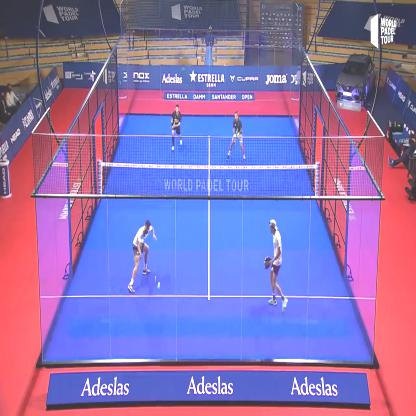ball: (155, 276, 163, 290)
